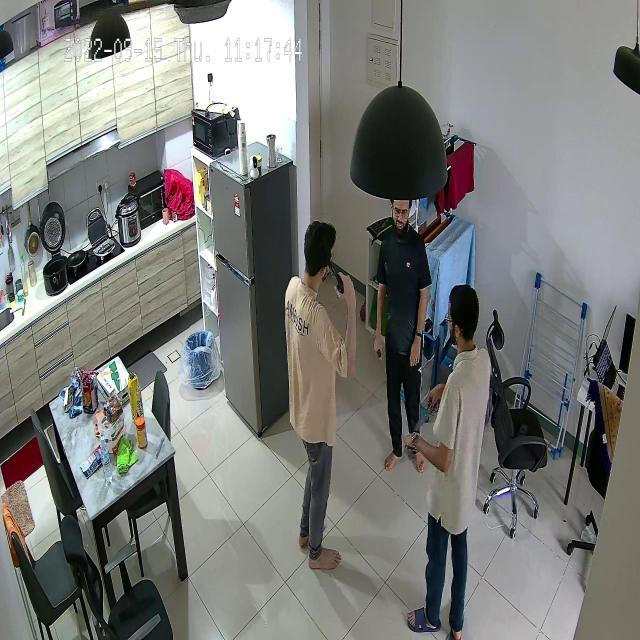Gun: (328, 262, 354, 302)
